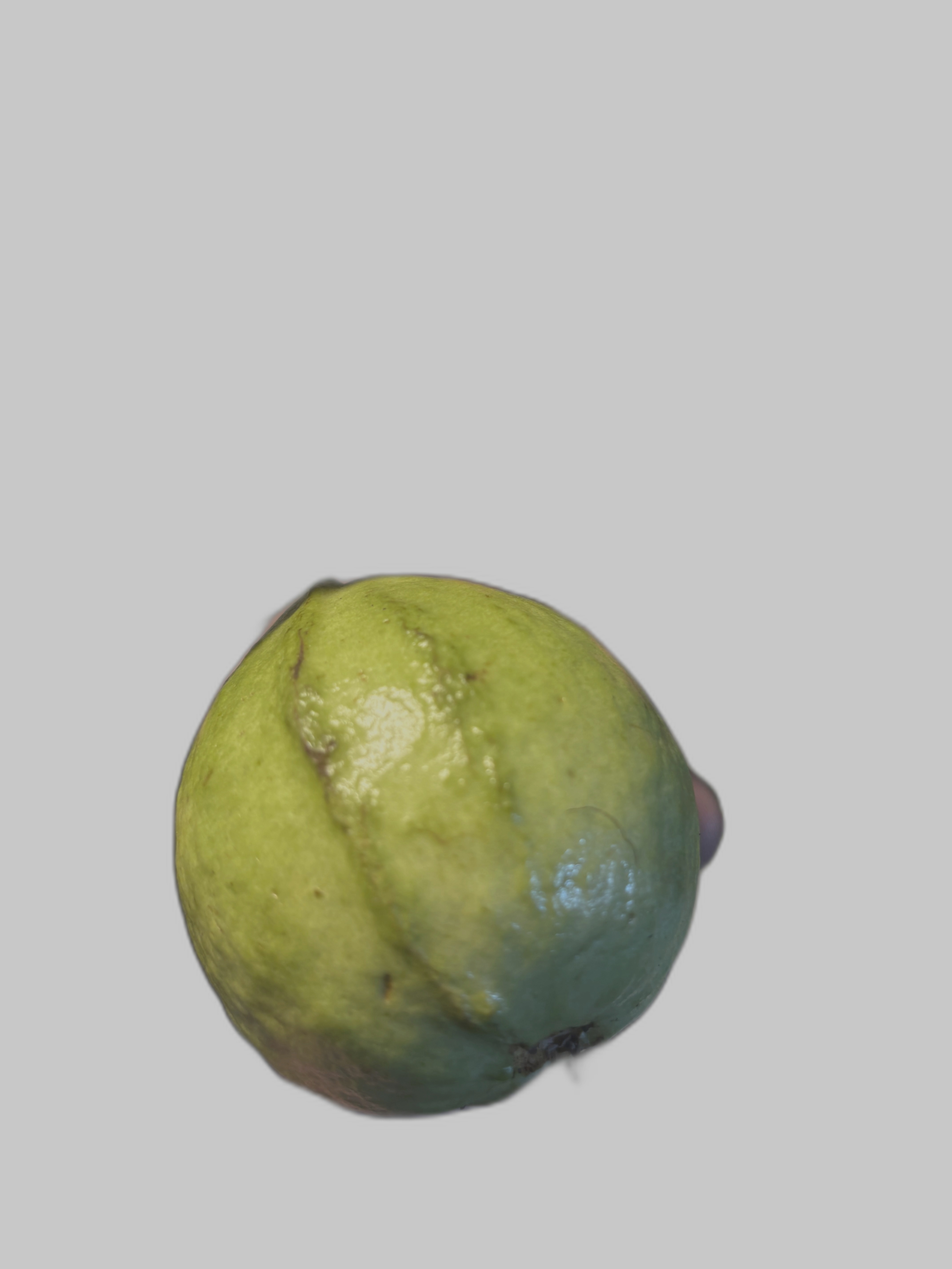guava: (85, 58, 800, 1137)
